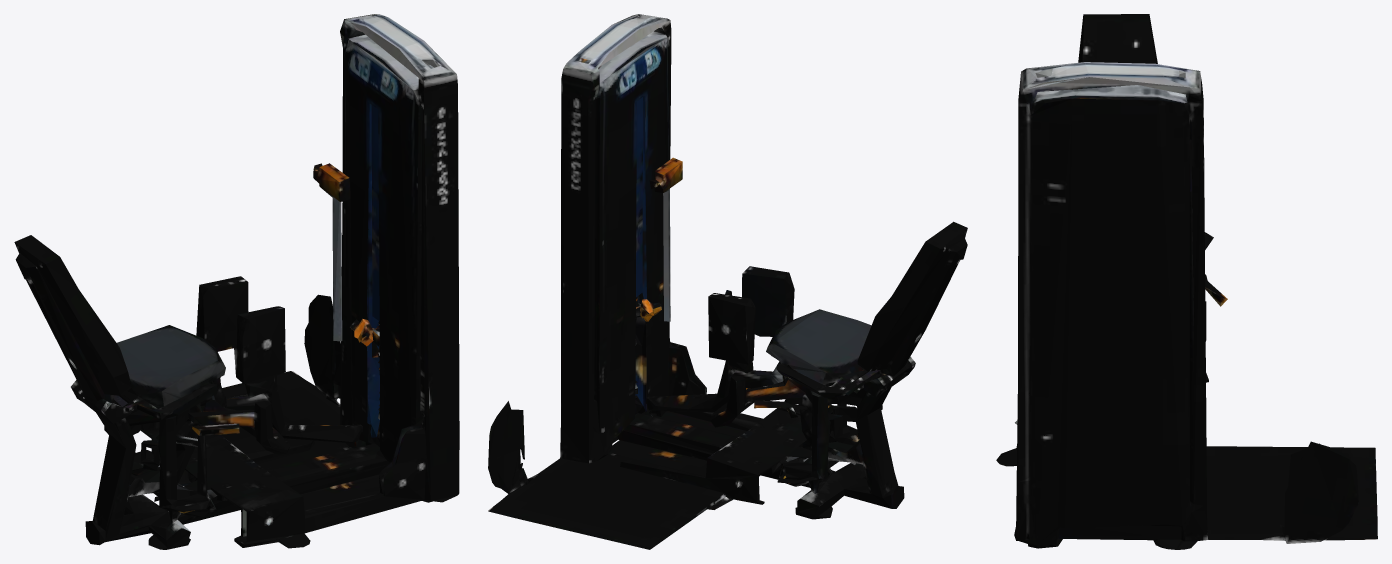
File: k1-matrix-versa-adabd-phone.glb
The picture shows the model from 3 angles, left to right: view 1: azimuth 30°, elevation 25°; view 2: azimuth 150°, elevation 25°; view 3: azimuth 270°, elevation 25°; orthographic projection. The views are drawn at different scales.
Parts seen in each view (by area): view 1: demo_textured.obj; view 2: demo_textured.obj; view 3: demo_textured.obj.
Part boxes in pixels (x1,y1,x2,y2): demo_textured.obj: [14, 14, 459, 549]; demo_textured.obj: [488, 14, 967, 549]; demo_textured.obj: [996, 14, 1377, 549].
Bounding box in the file's own units: 1.91 × 1.97 × 1.45.
1 material, 1 textured.
